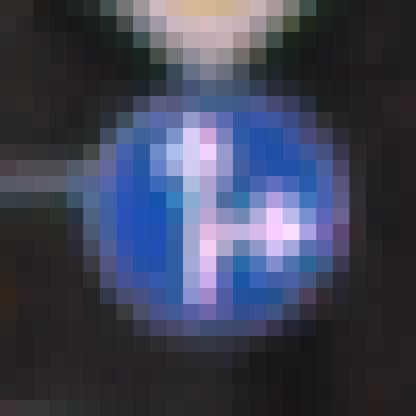Straight or Right: (84, 81, 334, 337)
